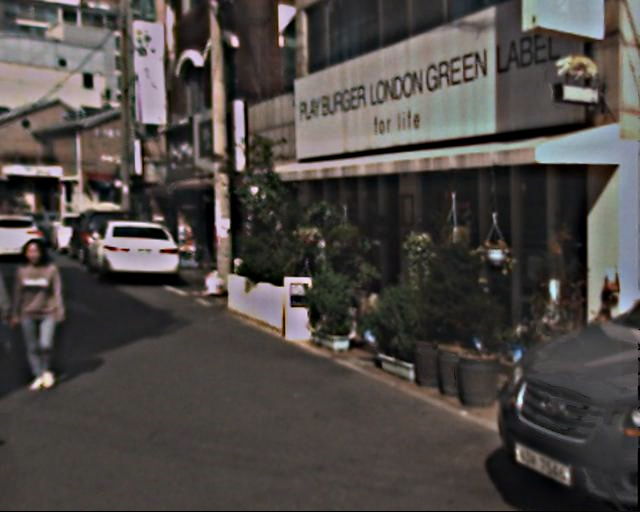person: (8, 234, 79, 395)
